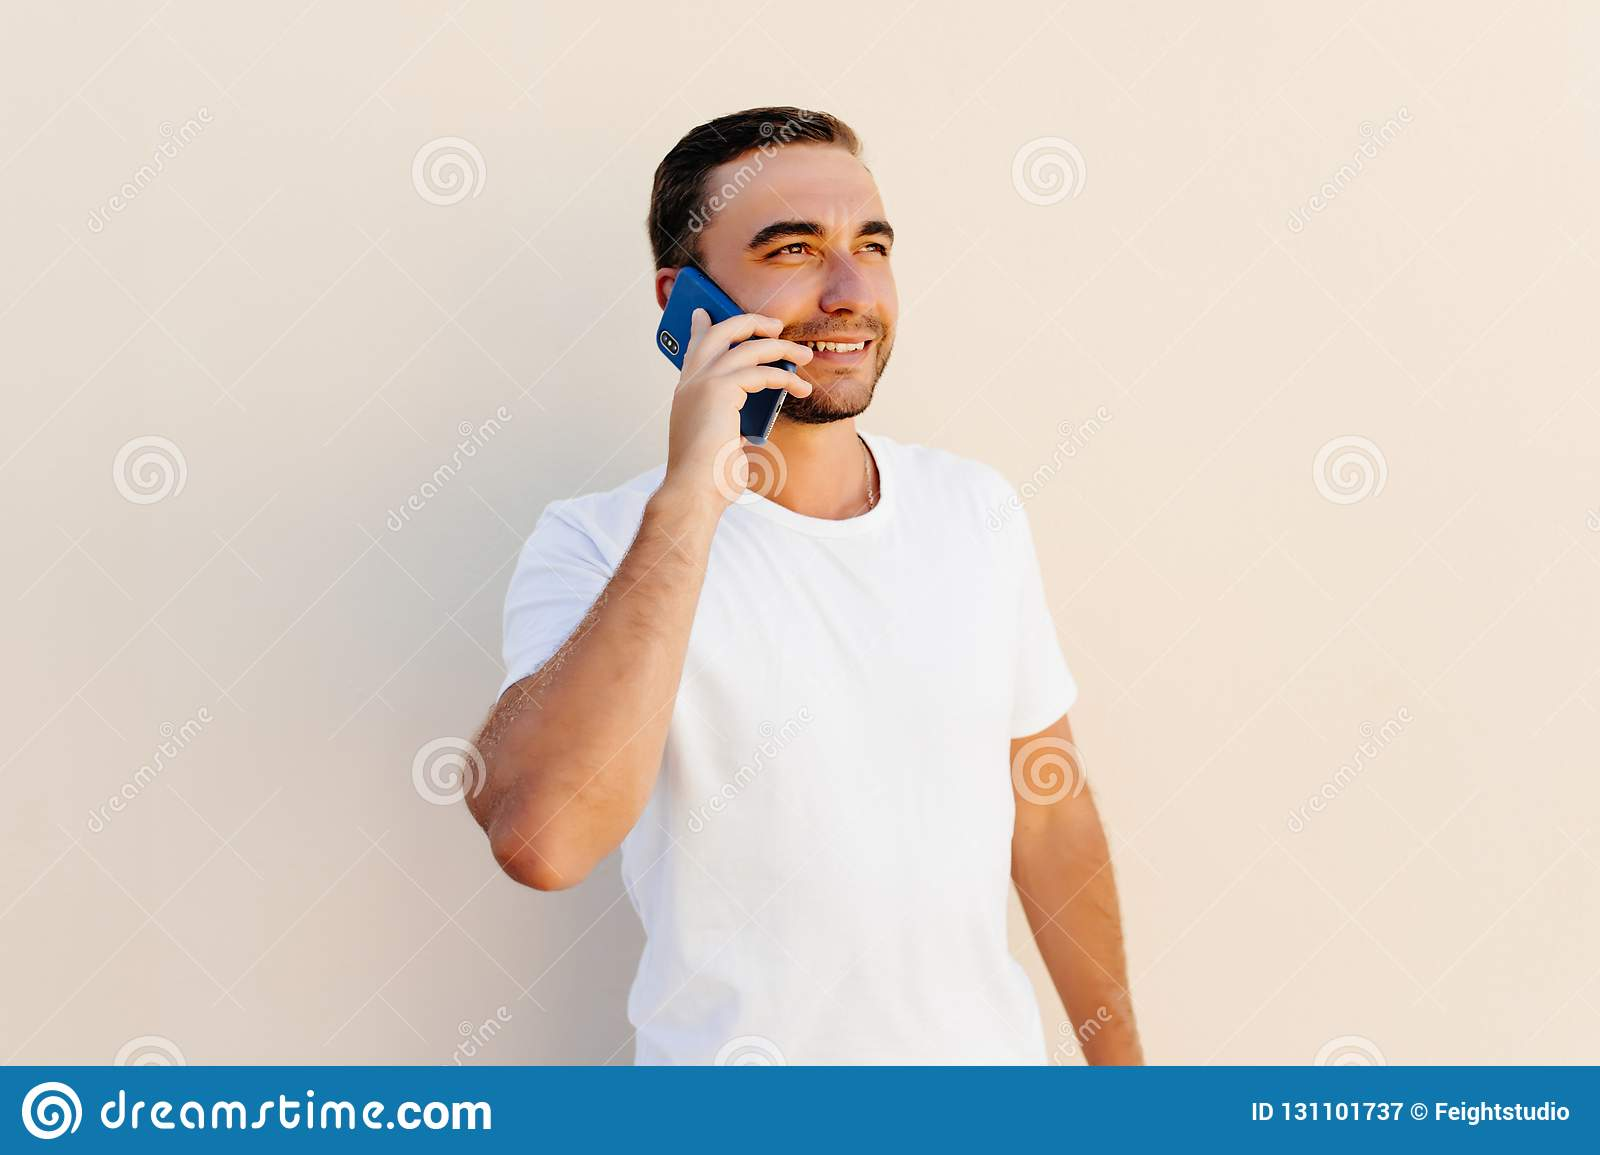phone: (656, 265, 802, 448)
talk: (653, 207, 906, 518)
